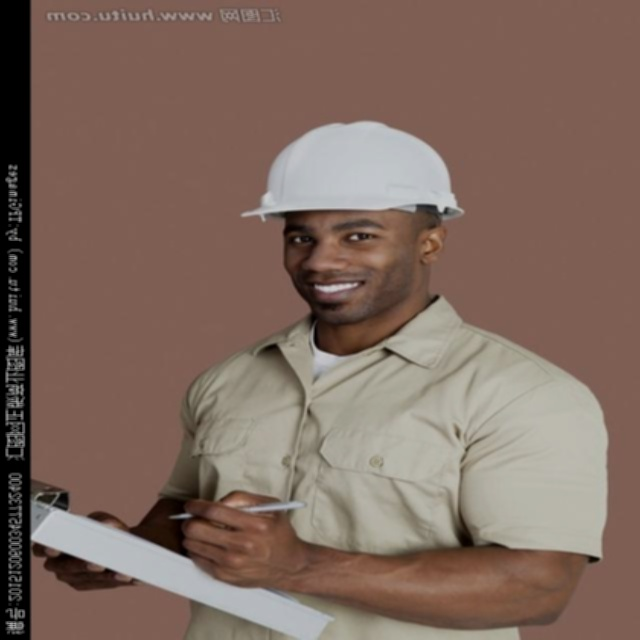Con_Casco: (245, 120, 466, 310)
